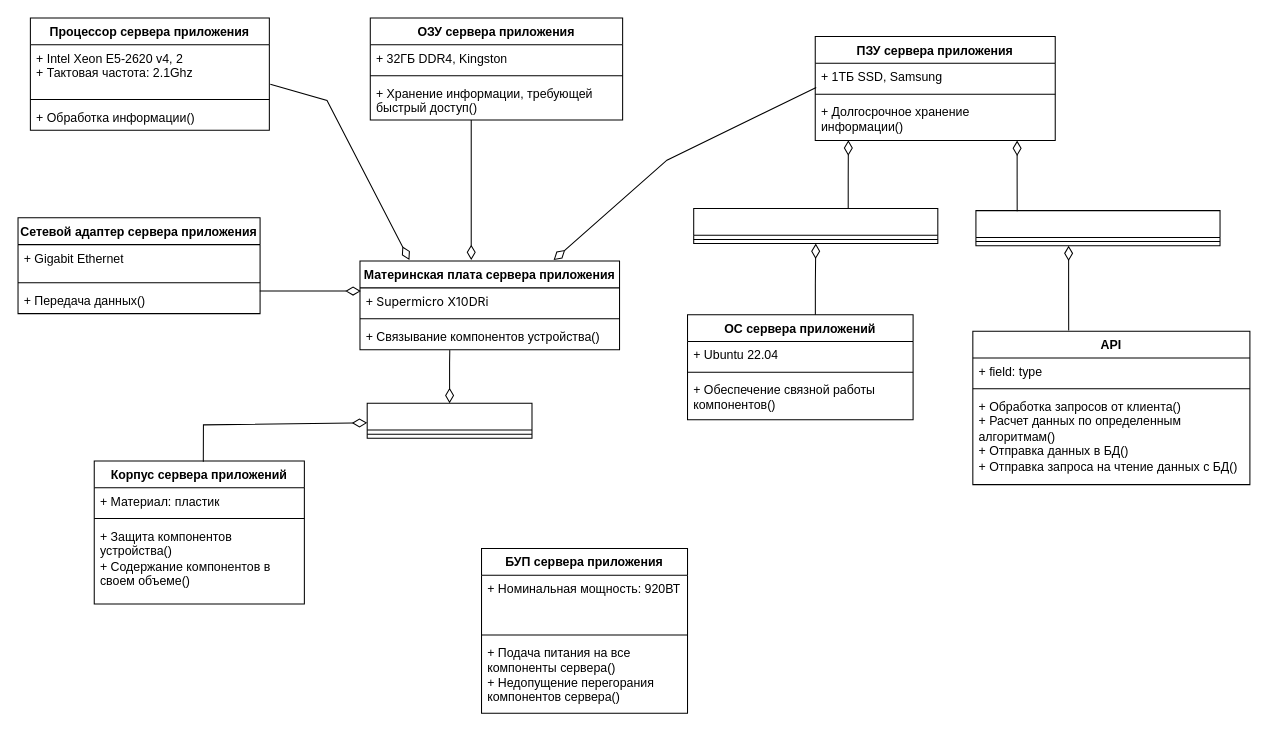
This 1268x734 diagram has some shape labels left out. The shapes that lost their labels are listed below. From the top down, each one's centre as x and y in pixels, then its label:
At (x=815, y=226): "Системное ПО сервера приложения".
At (x=1097, y=228): "Прикладное ПО сервера приложения".
At (x=449, y=420): "Сервер приложения".
